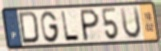5: (100, 7, 120, 42)
D: (18, 11, 41, 46)
G: (40, 10, 61, 44)
L: (60, 10, 82, 42)
P: (80, 7, 101, 43)
U: (119, 6, 143, 41)
